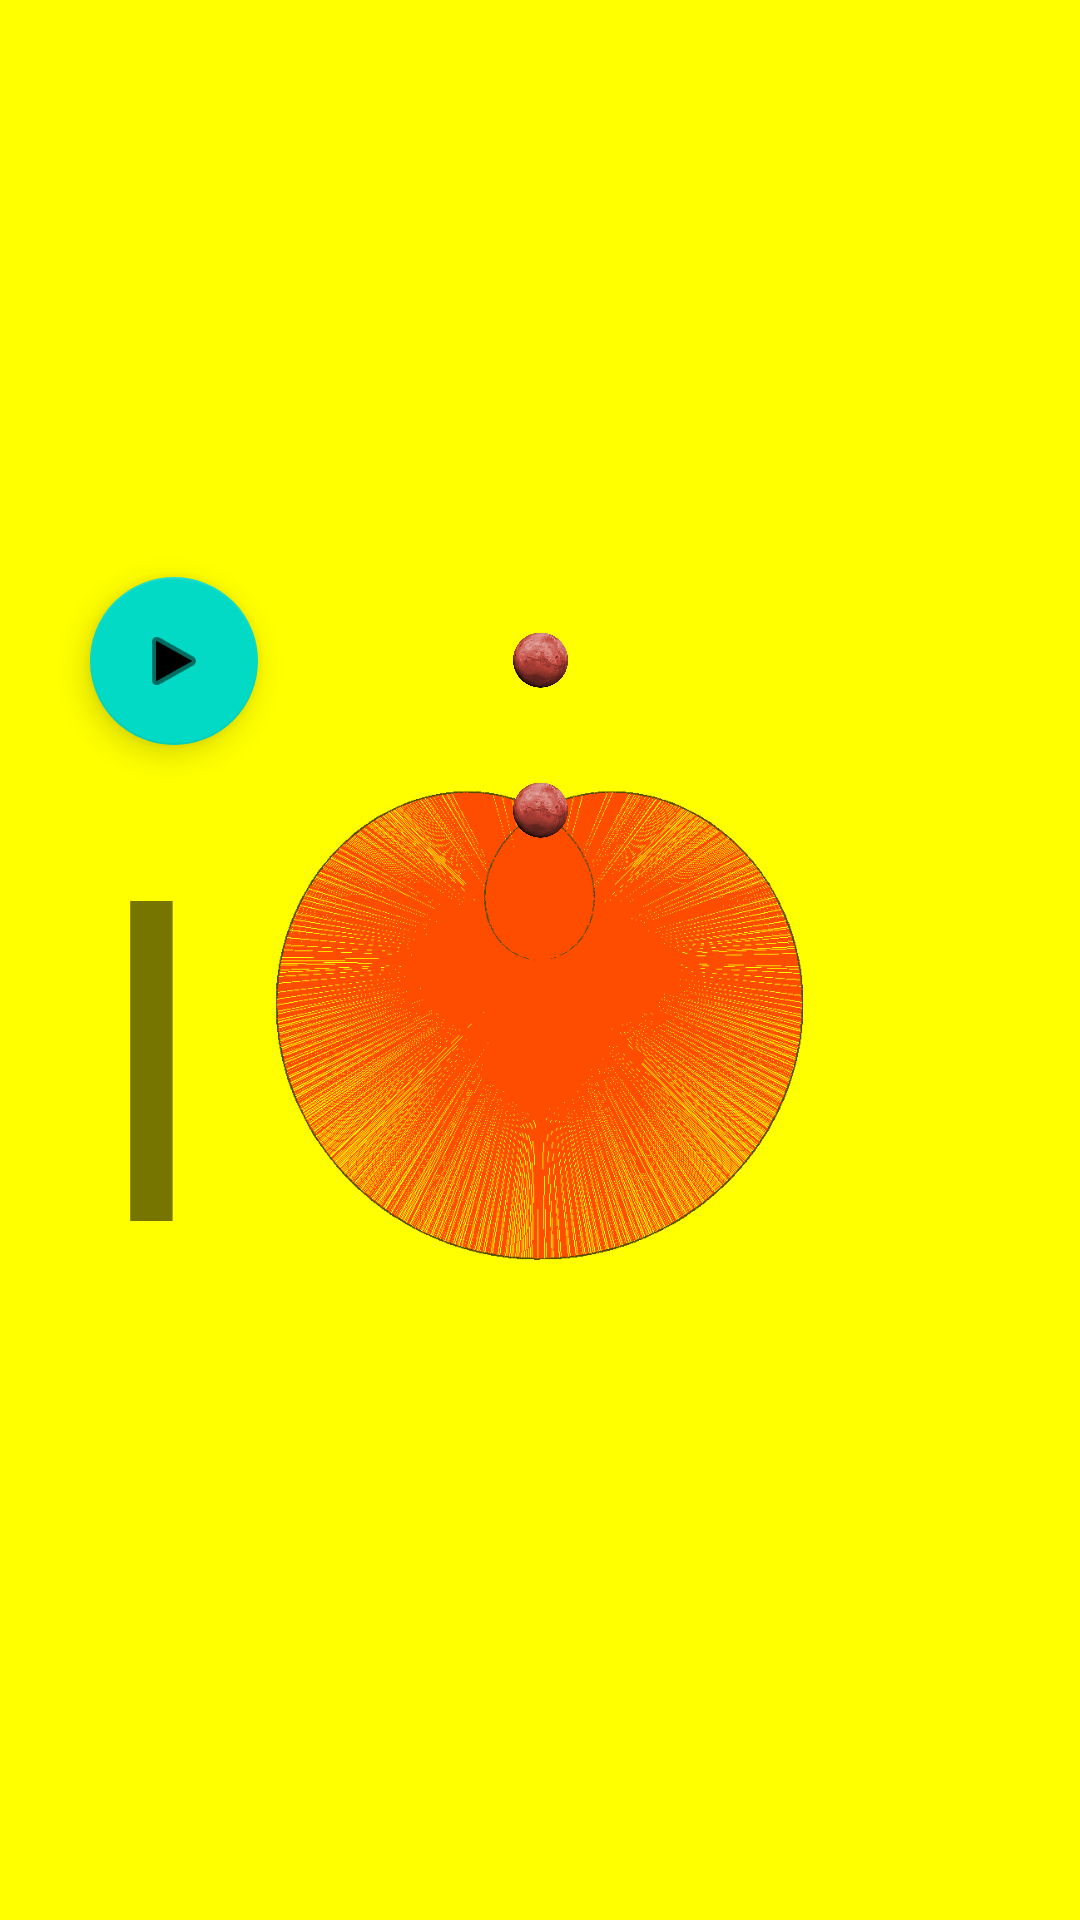

Icons on this 1080w x 1920h Android screen, each with its box as (x1, y1, x2, y2):
play: (90, 577, 258, 745)
